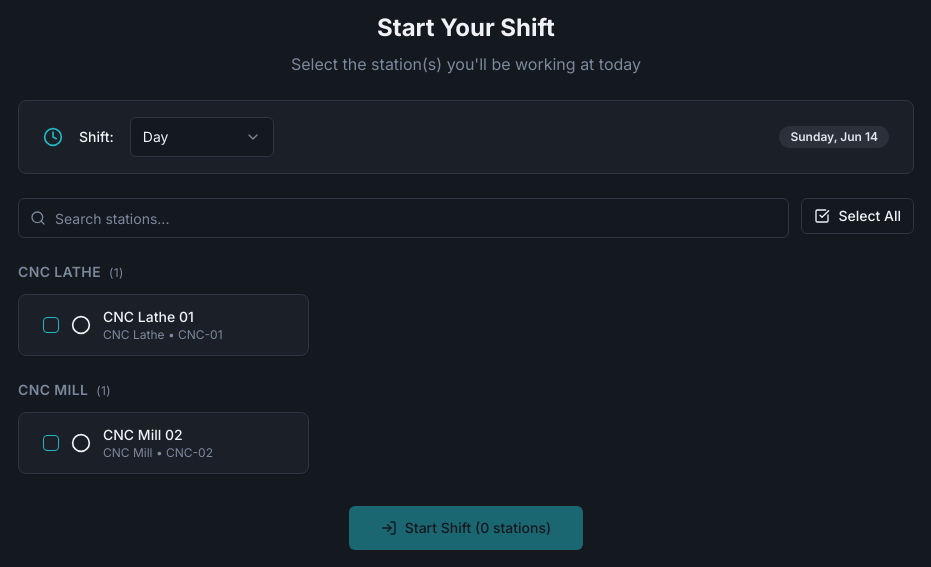
Test: StationCheckIn › allows selecting and deselecting stations
The image size is (931, 567).
Step 1. Click the checkbox "CNC Lathe 01" → coordinates (163, 325), box left=18, top=294, right=309, bottom=356
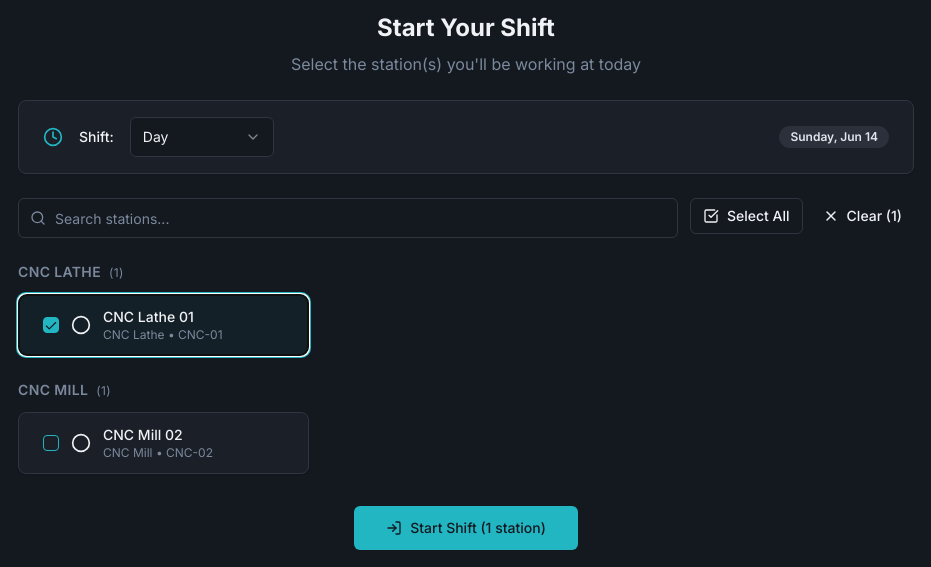
Expected: the checkbox "CNC Lathe 01" is checked
Step 2. Click the checkbox "CNC Lathe 01" → coordinates (163, 325), box left=18, top=294, right=309, bottom=356
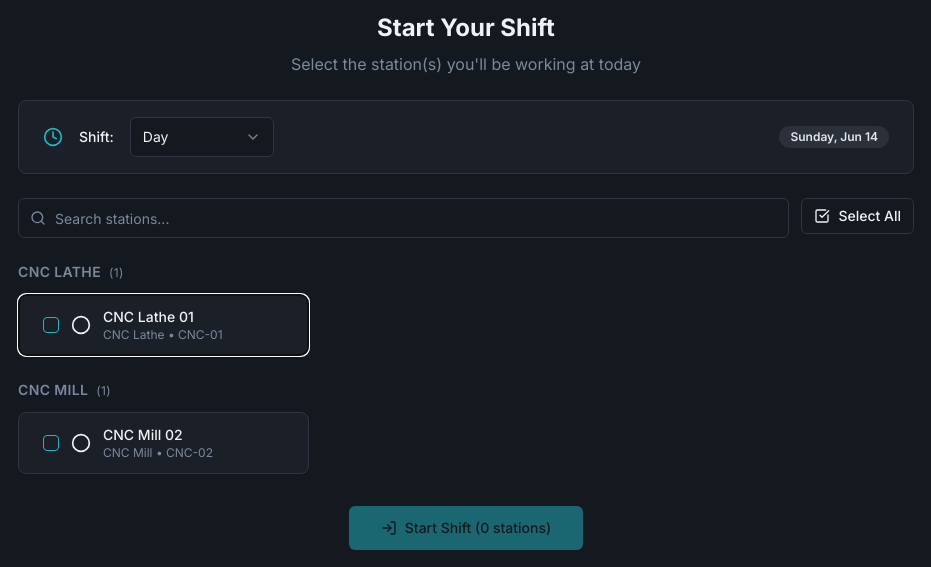
Expected: the checkbox "CNC Lathe 01" is not checked, left=18, top=294, right=309, bottom=356
